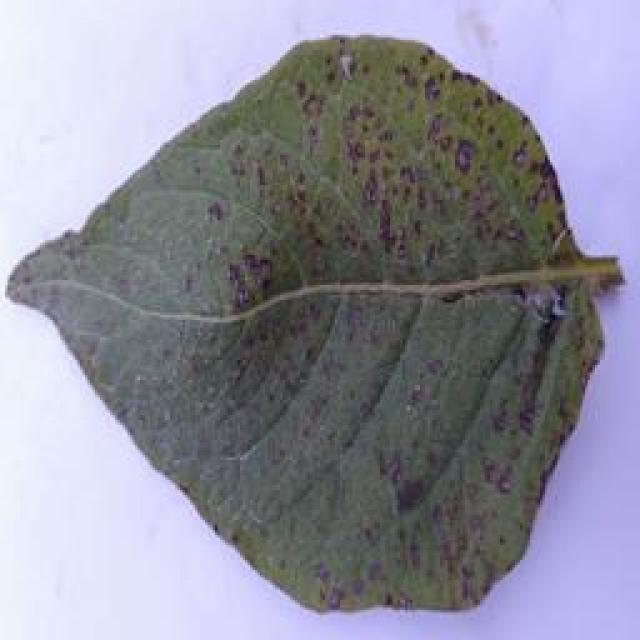Potato_Early_Blight: (3, 7, 629, 634)
